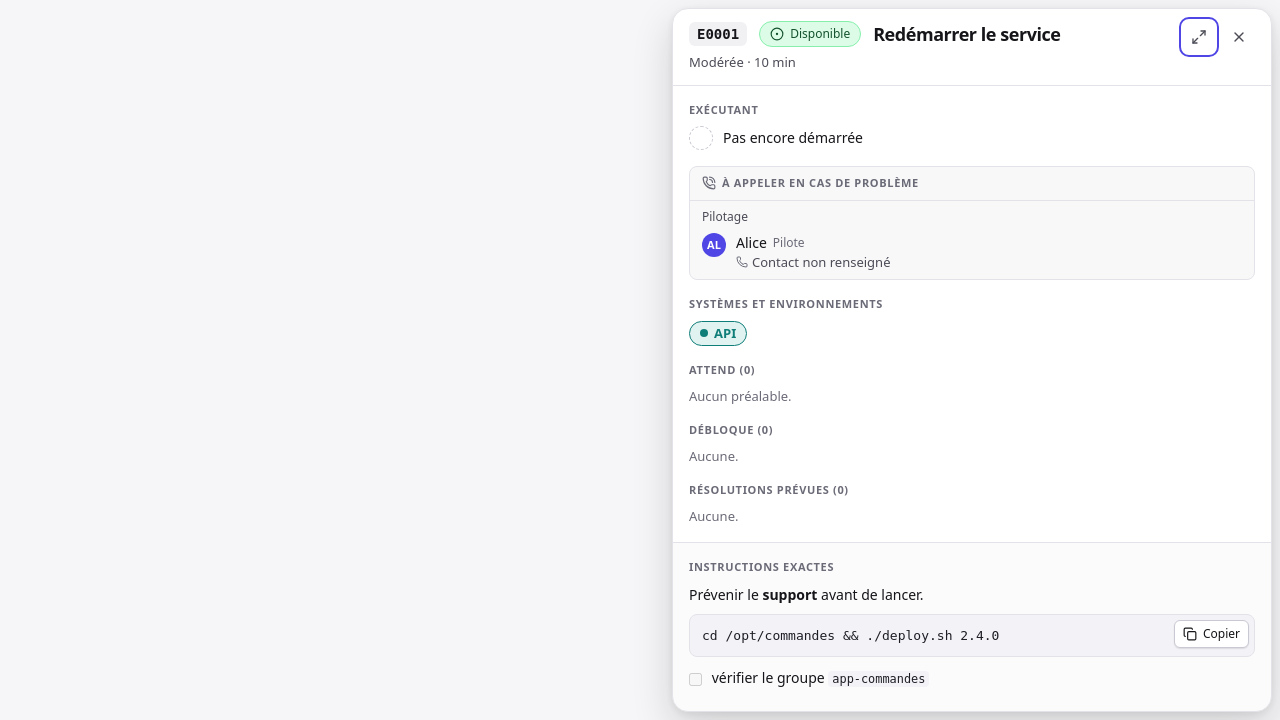
EtapePanneau : instructions en blocs (markdown + Copier) › presse-papiers refusé : le texte est sélectionné et un message l’indique
Click the button with aria-label "Copier la commande 1": click(1212, 634) left=1174, top=620, right=1249, bottom=648
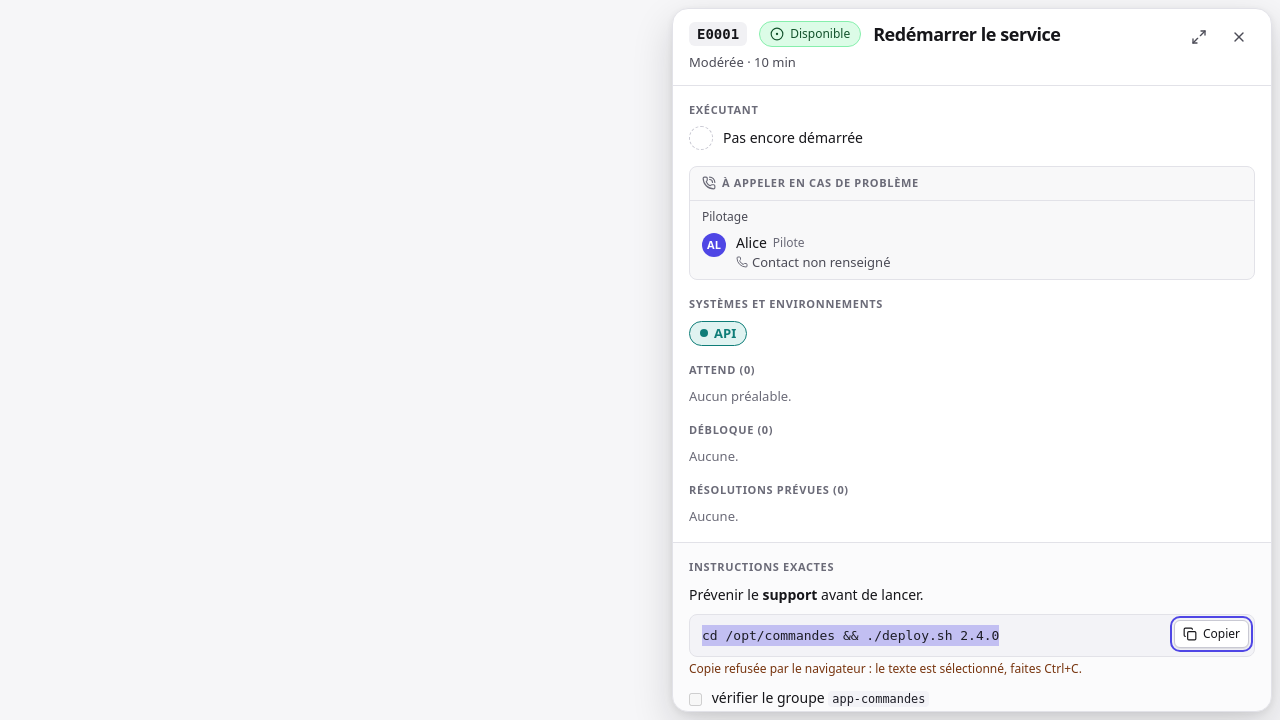
Expected: the text "cd /opt/commandes && ./deploy.sh 2.4.0" is shown, left=702, top=628, right=999, bottom=643
Now the text "Copie refusée" is shown, box left=689, top=660, right=1082, bottom=677
